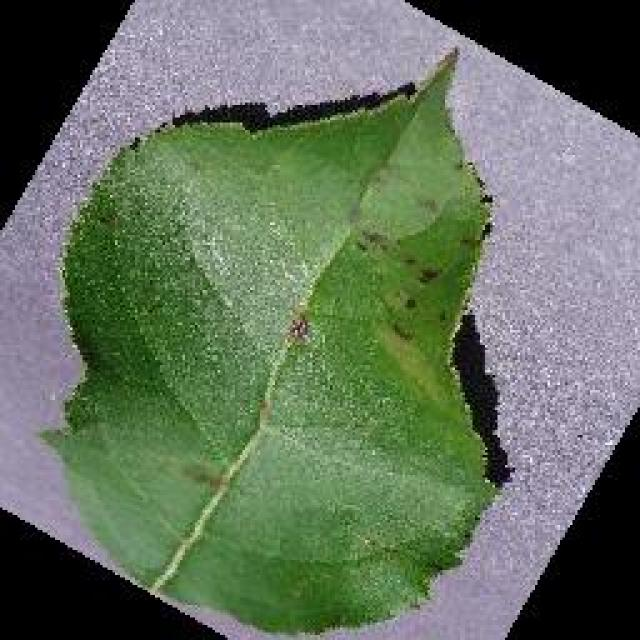apple scab disease: (40, 45, 508, 637)
